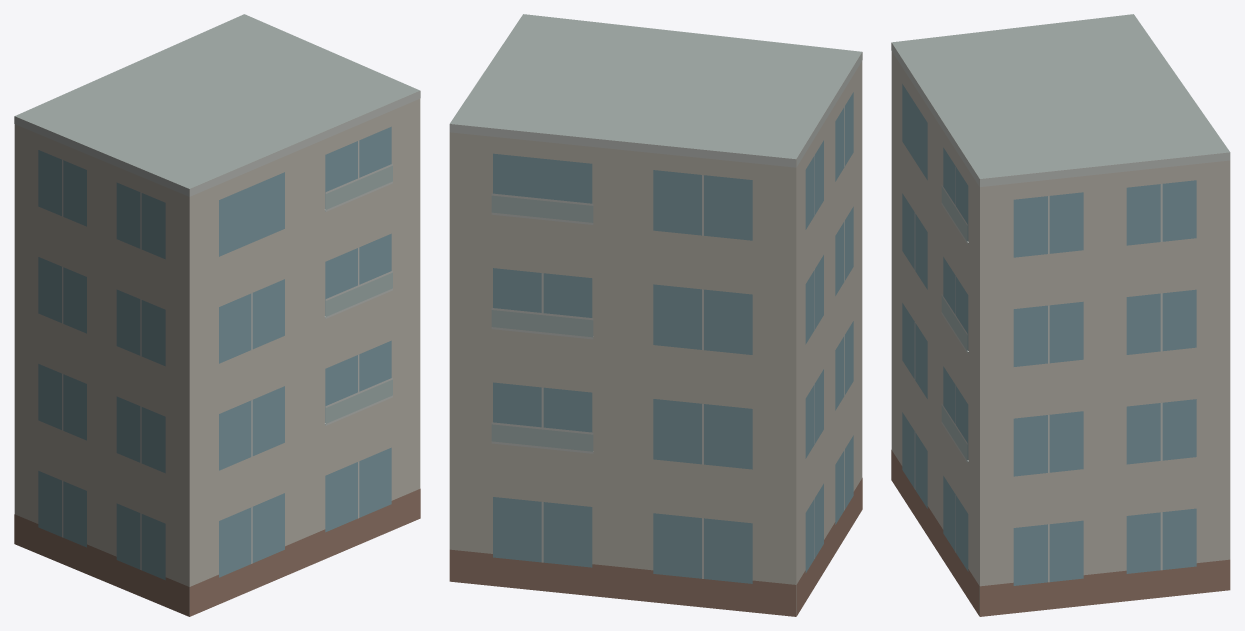
Rendered from survey-upis-32564024.glb.
3 views of the same model, side by side, from view 1: azimuth 30°, elevation 25°; view 2: azimuth 150°, elevation 25°; view 3: azimuth 270°, elevation 25° (orthographic). The views are drawn at different scales.
Visible parts, largest first — view 1: survey-upis-32564024.tmp; view 2: survey-upis-32564024.tmp; view 3: survey-upis-32564024.tmp.
Part boxes in pixels (box(x1,y1,x2,y2)): survey-upis-32564024.tmp: box(14, 14, 420, 616); survey-upis-32564024.tmp: box(449, 14, 862, 616); survey-upis-32564024.tmp: box(891, 14, 1230, 616).
Size of the model in its own units: 10.69 by 13.2 by 9.27.
